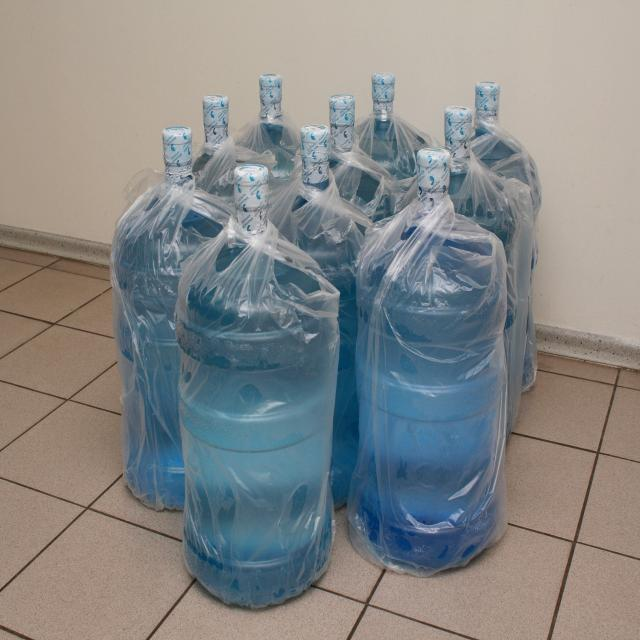plastic_bottle: (174, 162, 340, 608)
